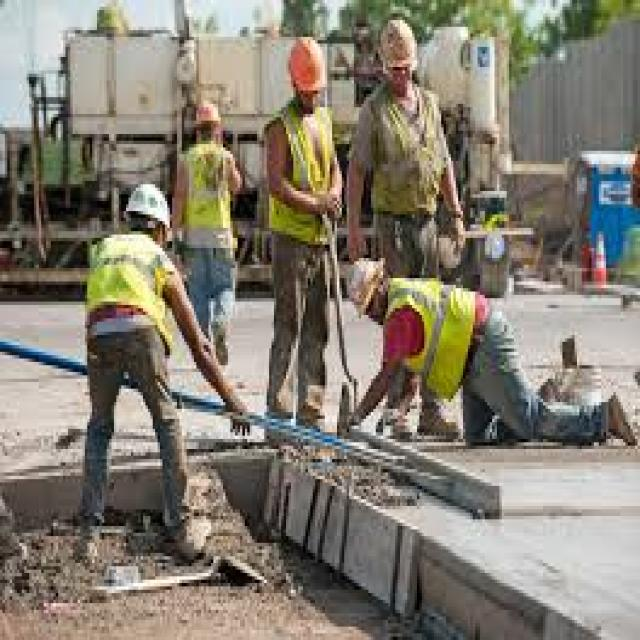Reflective-Jacket: (376, 265, 504, 409), (356, 83, 463, 244), (65, 231, 199, 359), (259, 100, 349, 262), (175, 140, 247, 274)
Safety-Helmet: (276, 27, 337, 104), (114, 171, 179, 238), (340, 248, 396, 325), (373, 14, 427, 80), (182, 90, 230, 141)
